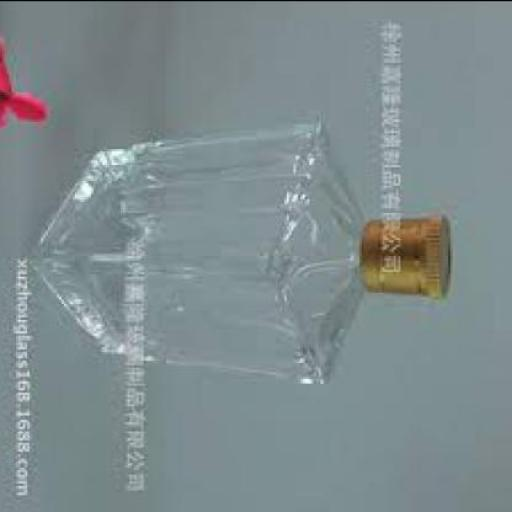glass: (36, 116, 369, 380)
metal: (367, 214, 453, 293)
